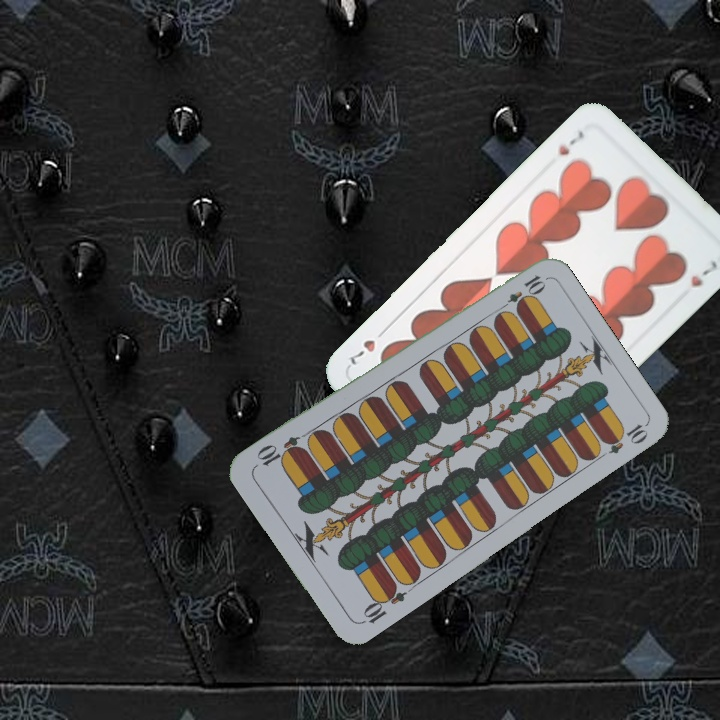E10: (357, 580, 409, 627), (494, 271, 548, 315)
H7: (554, 126, 587, 158)
